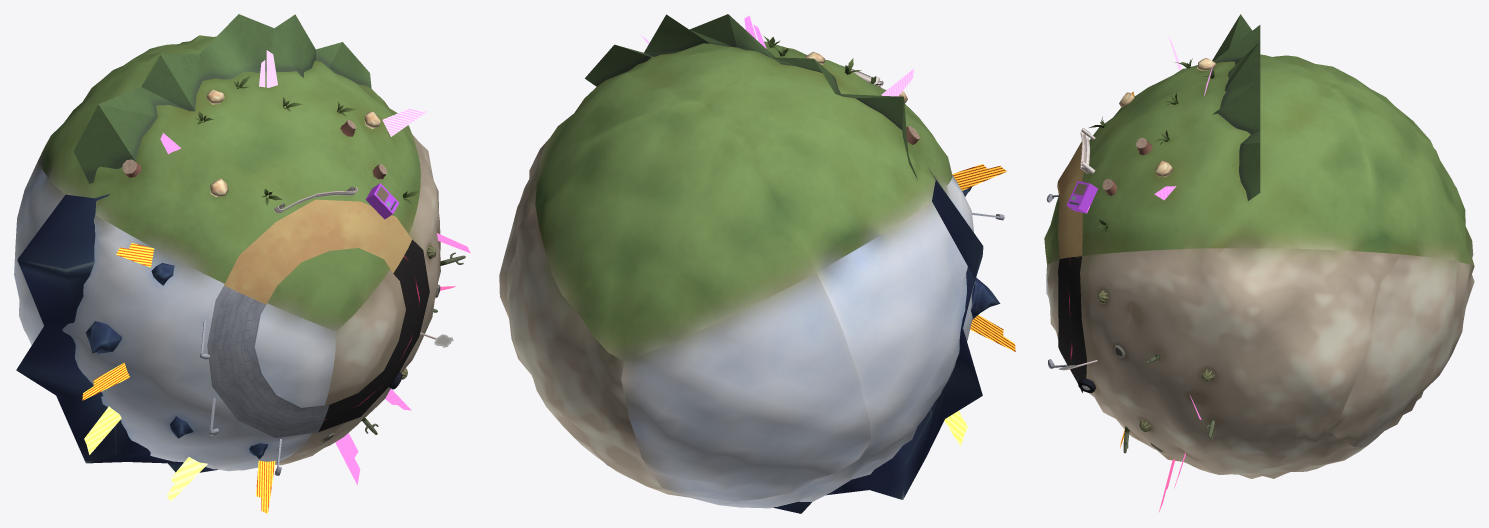
Rendered from WorldSelect_World.fbx.
The picture shows the model from 3 angles, left to right: view 1: azimuth 30°, elevation 25°; view 2: azimuth 150°, elevation 25°; view 3: azimuth 270°, elevation 25°; orthographic projection. The views are drawn at different scales.
Visible parts, largest first — view 1: Earth, Road, GrassField_Back, polySurface66, polySurface60, polySurface55, polySurface57, polySurface56, polySurface27, polySurface54, polySurface1, polySurface29 (+2 smaller); view 2: Earth, polySurface66, GrassField_Back, polySurface68, polySurface54, polySurface60; view 3: Earth, GrassField_Back, Road, polySurface27.
Boxes of the visible parts, x1,y1,x2,y2 form: Earth: [14, 35, 440, 471]; Road: [207, 199, 429, 437]; GrassField_Back: [73, 14, 371, 183]; polySurface66: [16, 194, 218, 472]; polySurface60: [85, 321, 121, 353]; polySurface55: [84, 406, 121, 454]; polySurface57: [167, 457, 207, 502]; polySurface56: [256, 460, 275, 513]; polySurface27: [365, 183, 399, 219]; polySurface54: [82, 362, 130, 400]; polySurface1: [382, 108, 426, 136]; polySurface29: [335, 433, 360, 485]; Earth: [499, 41, 974, 508]; polySurface66: [773, 169, 983, 513]; GrassField_Back: [585, 14, 917, 179]; polySurface68: [952, 164, 1006, 190]; polySurface54: [970, 315, 1015, 351]; polySurface60: [971, 277, 1000, 319]; Earth: [1044, 54, 1474, 478]; GrassField_Back: [1212, 14, 1260, 200]; Road: [1057, 142, 1086, 392]; polySurface27: [1066, 181, 1097, 213].
Size of the model in its own units: 143 by 131 by 148.
